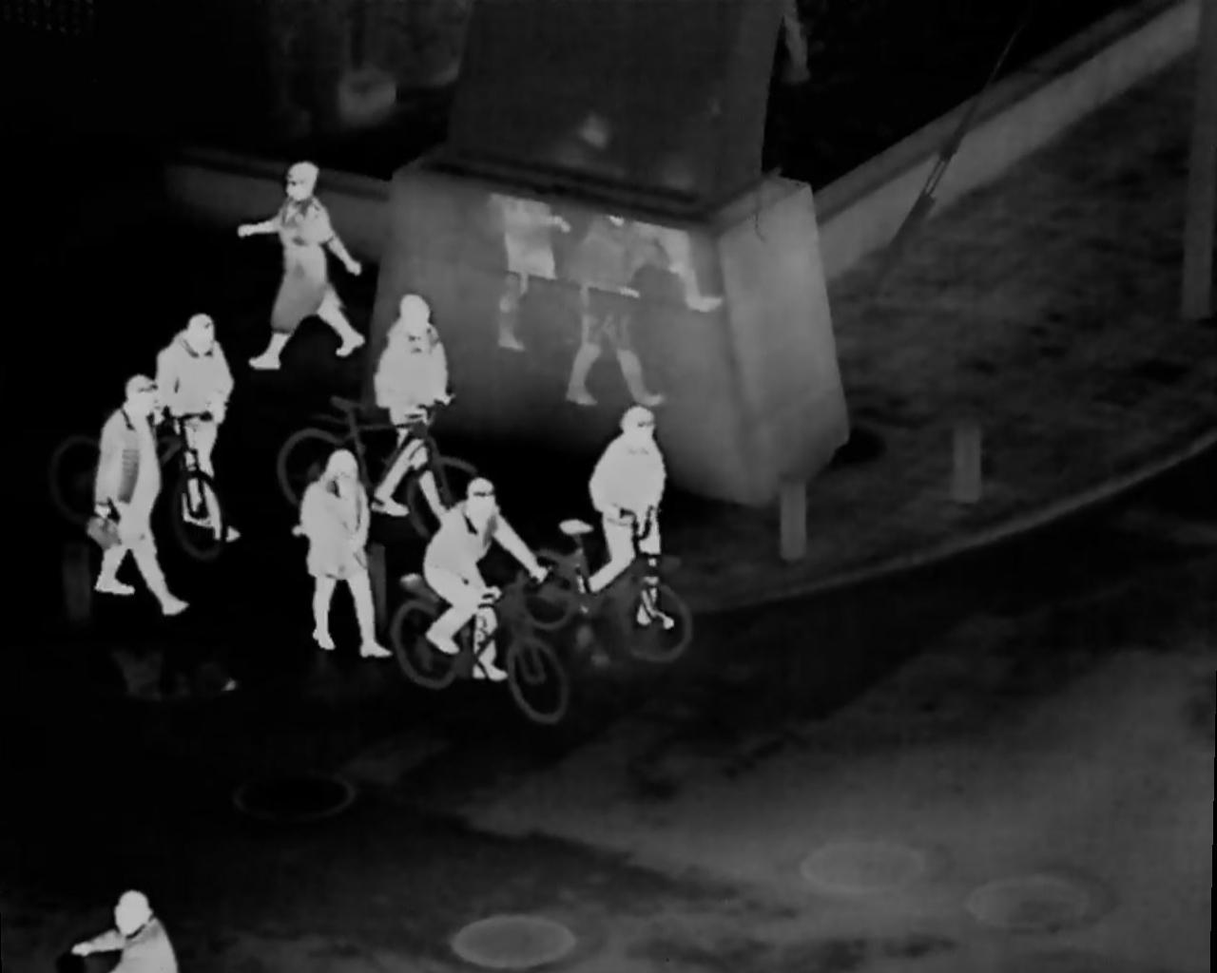person: (415, 480, 545, 678), (242, 163, 364, 372), (97, 374, 194, 623), (575, 410, 671, 629), (151, 315, 242, 538), (368, 294, 451, 528), (294, 449, 388, 655), (72, 891, 183, 970)
